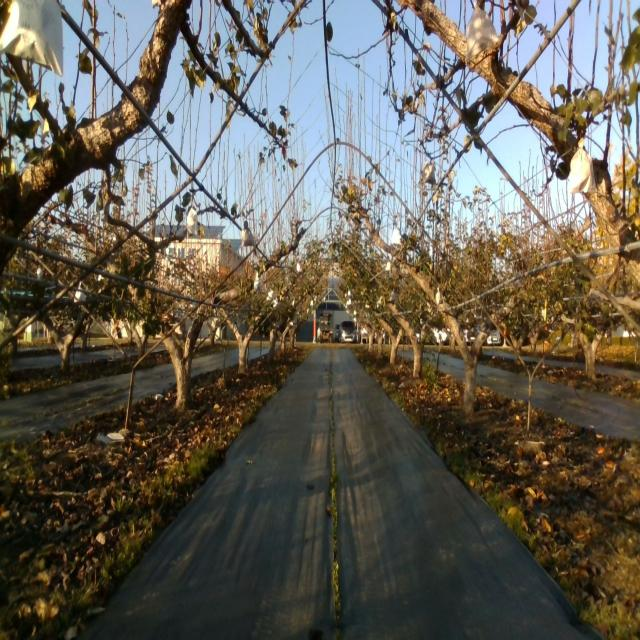pearbags: (0, 0, 63, 75), (464, 5, 500, 65), (568, 139, 598, 192), (186, 207, 198, 237), (422, 162, 436, 187), (241, 227, 254, 247)
